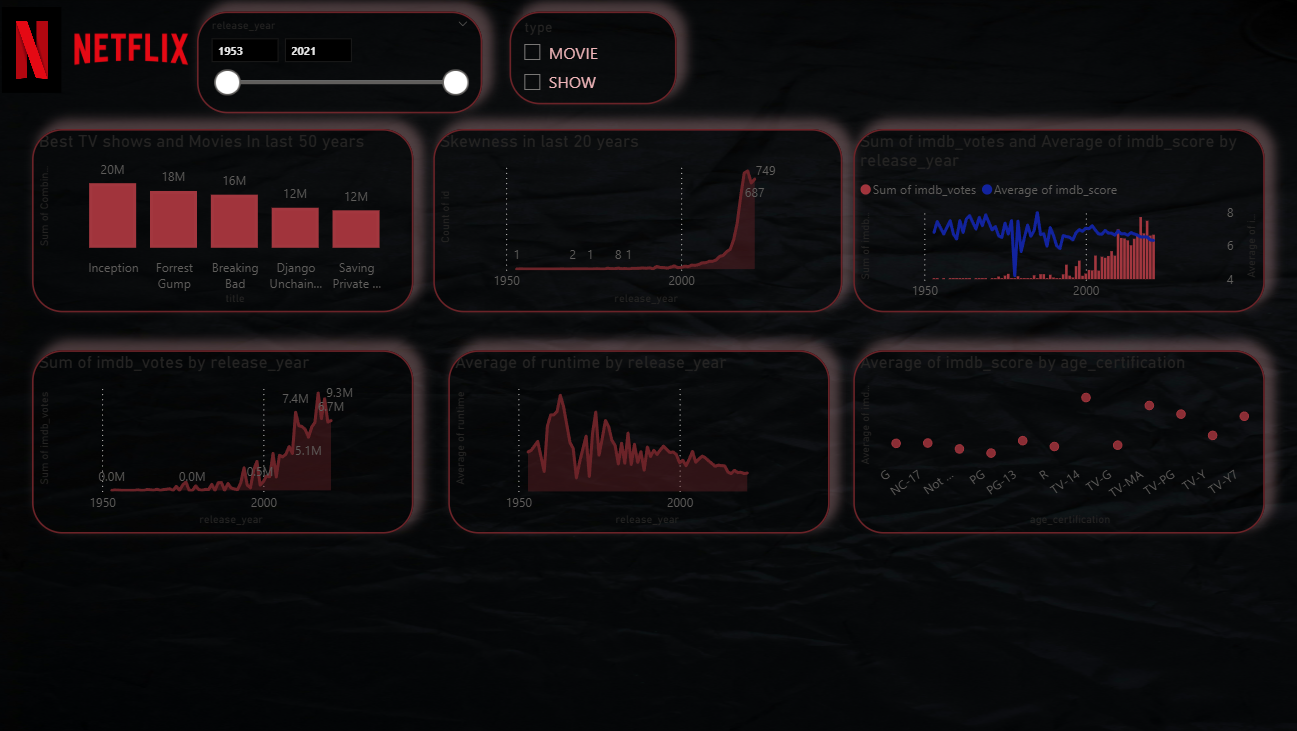

Layout of this report page (visuals, bound fields, positions):
{"tool":"powerbi","page":{"name":"Page 1","canvas":[1280,720],"ordinal":0},"visuals":[{"type":"image","box":[0,0,68.6,100],"z":0},{"type":"image","box":[68.6,0,127.1,100],"z":1000},{"type":"slicer","fields":{"Values":["Netflix TV Shows and Movies.release_year"]},"box":[195.7,12.9,280,100],"z":2000},{"type":"slicer","fields":{"Values":["Netflix TV Shows and Movies.type"]},"box":[502.9,12.9,164.3,91.4],"z":3000},{"type":"columnChart","title":"Best TV shows and Movies In last 50 years","fields":{"Category":["Netflix TV Shows and Movies.title"],"Y":["Sum(Netflix TV Shows and Movies.Combined Rating )"]},"box":[34.3,127.1,374.3,180],"z":4000},{"type":"lineChart","title":"Skewness in last 20 years","fields":{"Category":["Netflix TV Shows and Movies.release_year"],"Y":["CountNonNull(Netflix TV Shows and Movies.id)"]},"box":[428.6,127.1,401.4,180],"z":5000},{"type":"lineClusteredColumnComboChart","fields":{"Category":["Netflix TV Shows and Movies.release_year"],"Y2":["Avg(Netflix TV Shows and Movies.imdb_score)"],"Y":["Sum(Netflix TV Shows and Movies.imdb_votes)"]},"box":[840,127.1,404.3,180],"z":6000},{"type":"lineChart","fields":{"Category":["Netflix TV Shows and Movies.release_year"],"Y":["Sum(Netflix TV Shows and Movies.imdb_votes)"]},"box":[34.3,344.3,374.3,180],"z":7000},{"type":"lineClusteredColumnComboChart","fields":{"Category":["Netflix TV Shows and Movies.release_year"],"Y2":["Avg(Netflix TV Shows and Movies.runtime)"]},"box":[442.9,344.3,374.3,180],"z":8000},{"type":"scatterChart","fields":{"X":["Netflix TV Shows and Movies.age_certification"],"Y":["Avg(Netflix TV Shows and Movies.imdb_score)"]},"box":[840,344.3,404.3,180],"z":8001}]}

Visuals, with their boxes in screenshot pixels (x1, y1, x2, y2), scaled from the page's 1280x720 canvas onto the 1297x731 screenshot:
image: x1=0 y1=0 x2=70 y2=102
image: x1=70 y1=0 x2=198 y2=102
slicer - Netflix TV Shows and Movies.release_year: x1=198 y1=13 x2=482 y2=115
slicer - Netflix TV Shows and Movies.type: x1=510 y1=13 x2=676 y2=106
"Best TV shows and Movies In last 50 years" columnChart: x1=35 y1=129 x2=414 y2=312
"Skewness in last 20 years" lineChart: x1=434 y1=129 x2=841 y2=312
lineClusteredColumnComboChart - Netflix TV Shows and Movies.release_year x Avg(Netflix TV Shows and Movies.imdb_score): x1=851 y1=129 x2=1261 y2=312
lineChart - Netflix TV Shows and Movies.release_year x Sum(Netflix TV Shows and Movies.imdb_votes): x1=35 y1=350 x2=414 y2=532
lineClusteredColumnComboChart - Netflix TV Shows and Movies.release_year x Avg(Netflix TV Shows and Movies.runtime): x1=449 y1=350 x2=828 y2=532
scatterChart - Netflix TV Shows and Movies.age_certification x Avg(Netflix TV Shows and Movies.imdb_score): x1=851 y1=350 x2=1261 y2=532
